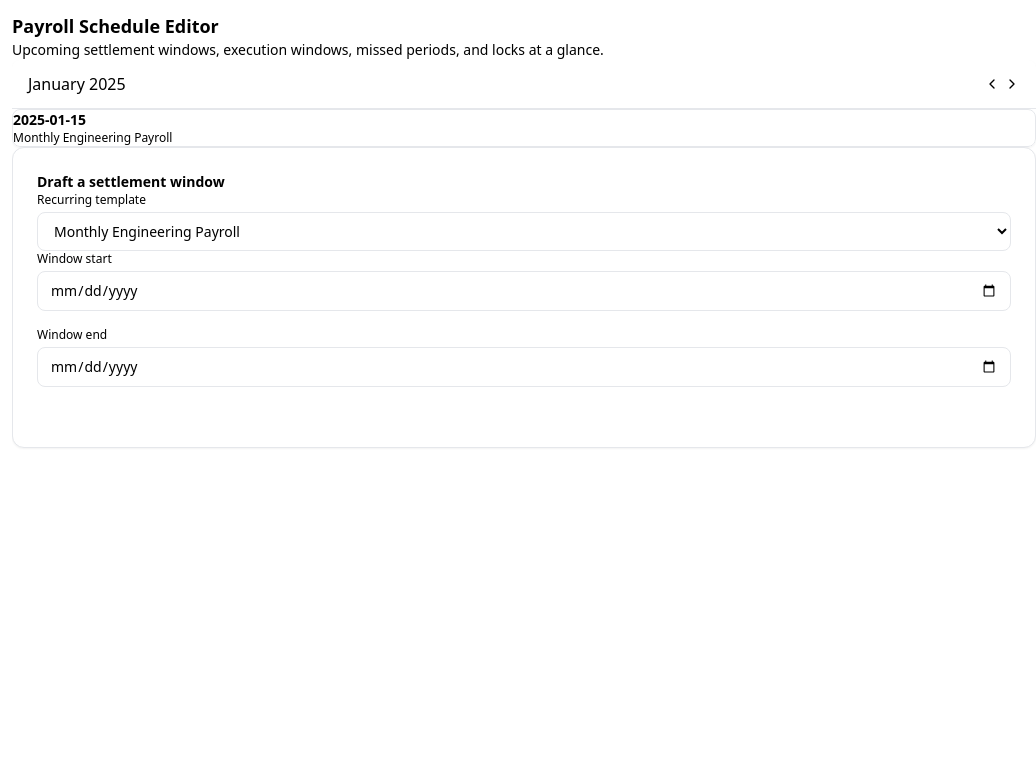
Test: PayrollScheduleEditor › rejects a draft window that overlaps an existing draft
Type "2025-02-01" into the date field labelled "Window start" at (524, 291), box x1=37 y1=271 x2=1011 y2=311
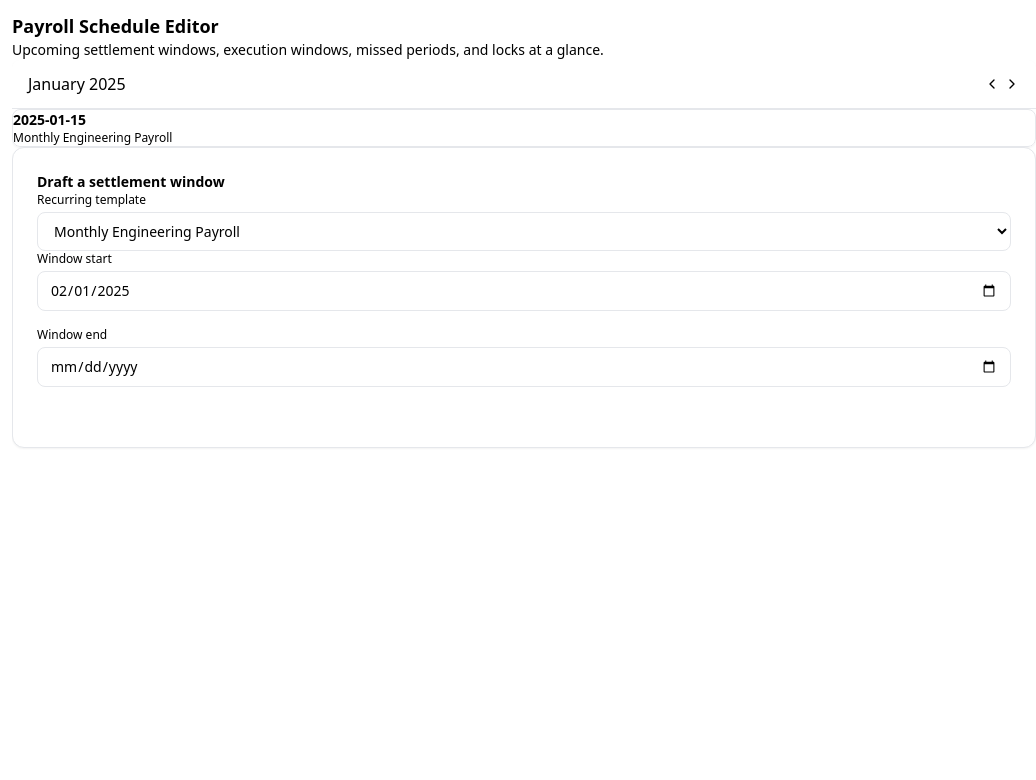
Type "2025-02-10" into the date field labelled "Window end" at (524, 367), box x1=37 y1=347 x2=1011 y2=387
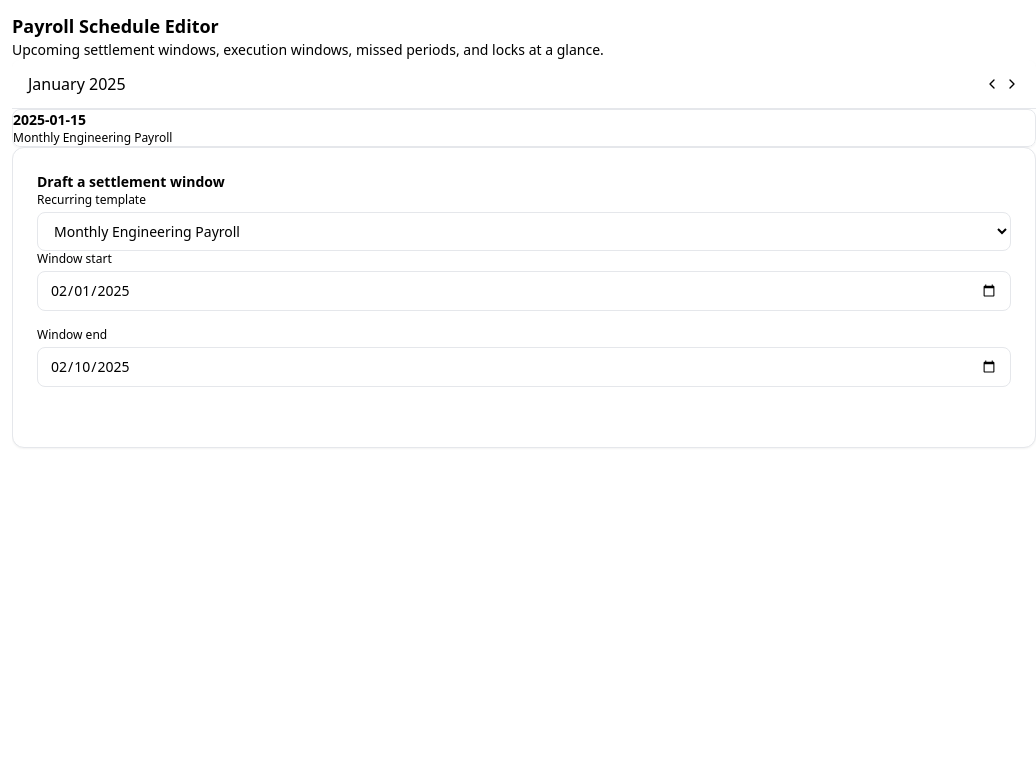
Click the button "Save draft window" at (124, 405), box x1=37 y1=387 x2=212 y2=423
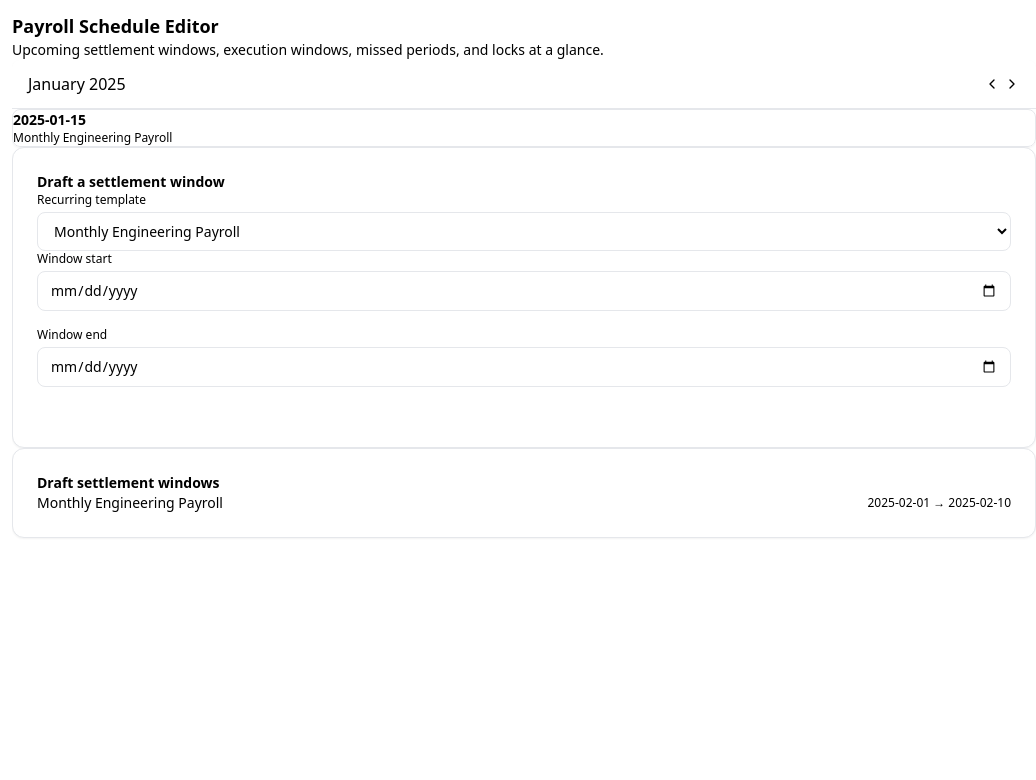
Type "2025-02-05" into the date field labelled "Window start" at (524, 291), box x1=37 y1=271 x2=1011 y2=311
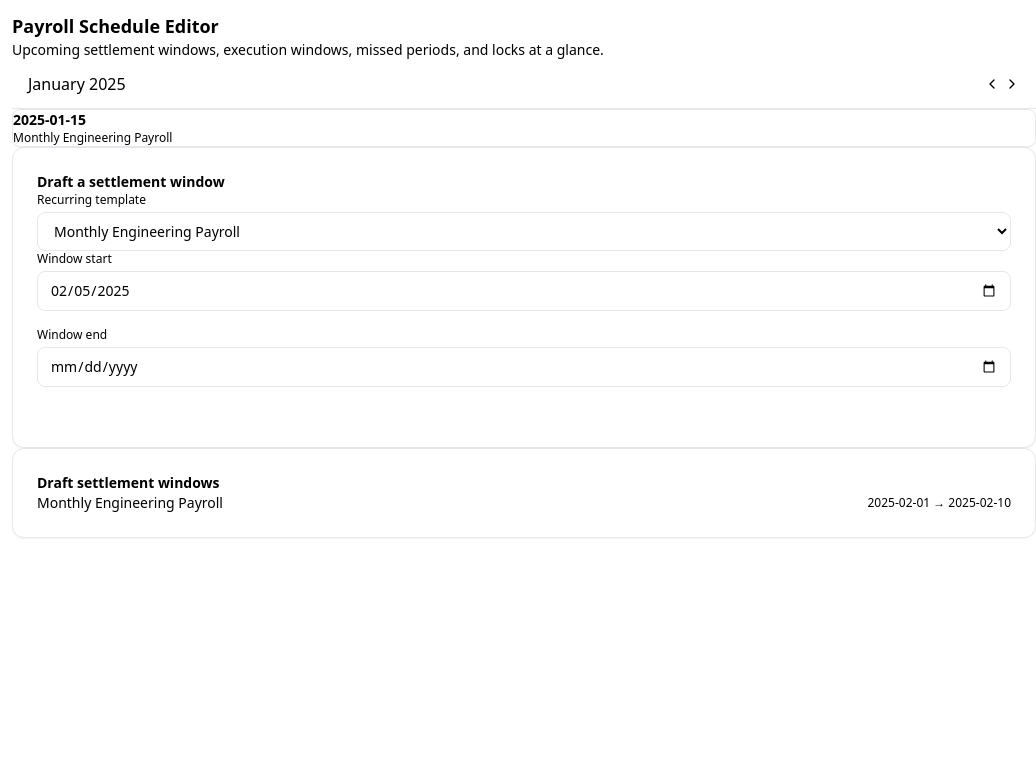
Type "2025-02-15" into the date field labelled "Window end" at (524, 367), box x1=37 y1=347 x2=1011 y2=387
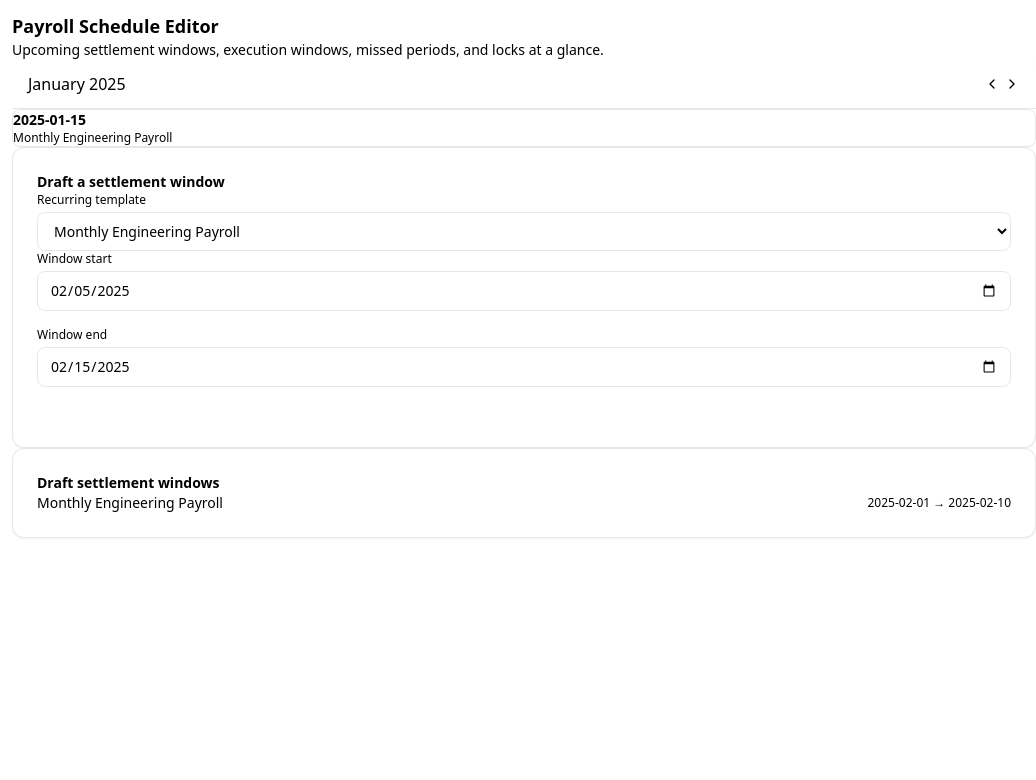
Click the button "Save draft window" at (124, 405), box x1=37 y1=387 x2=212 y2=423
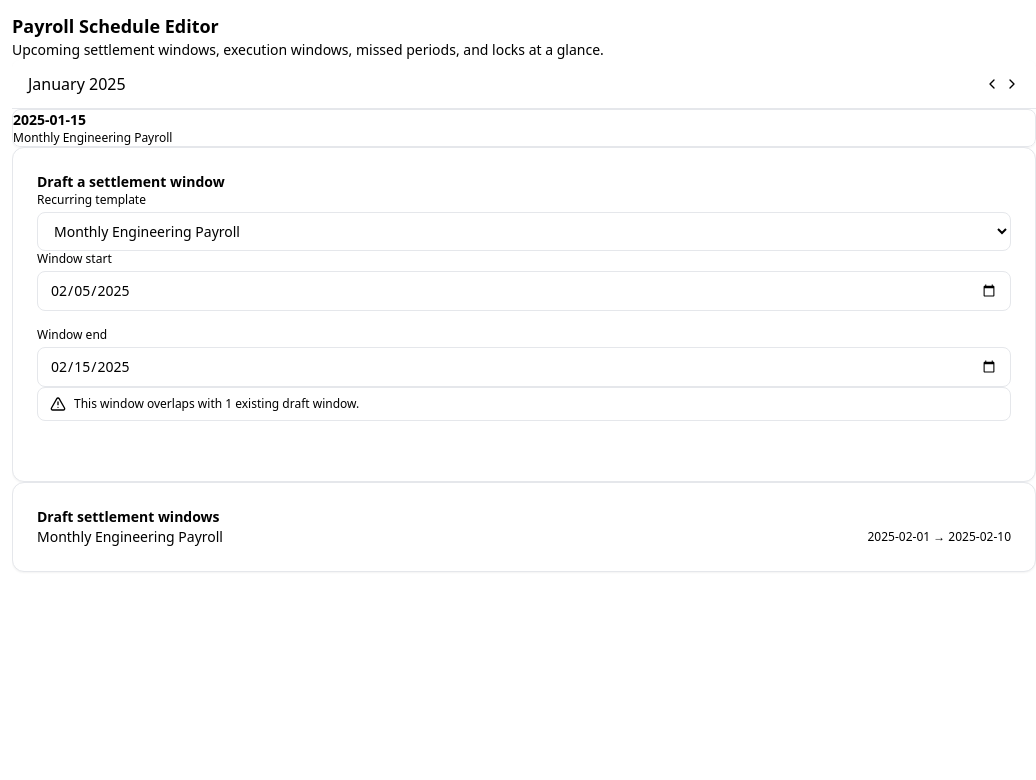
Now the message shows "overlaps with", box x1=74 y1=395 x2=359 y2=412
